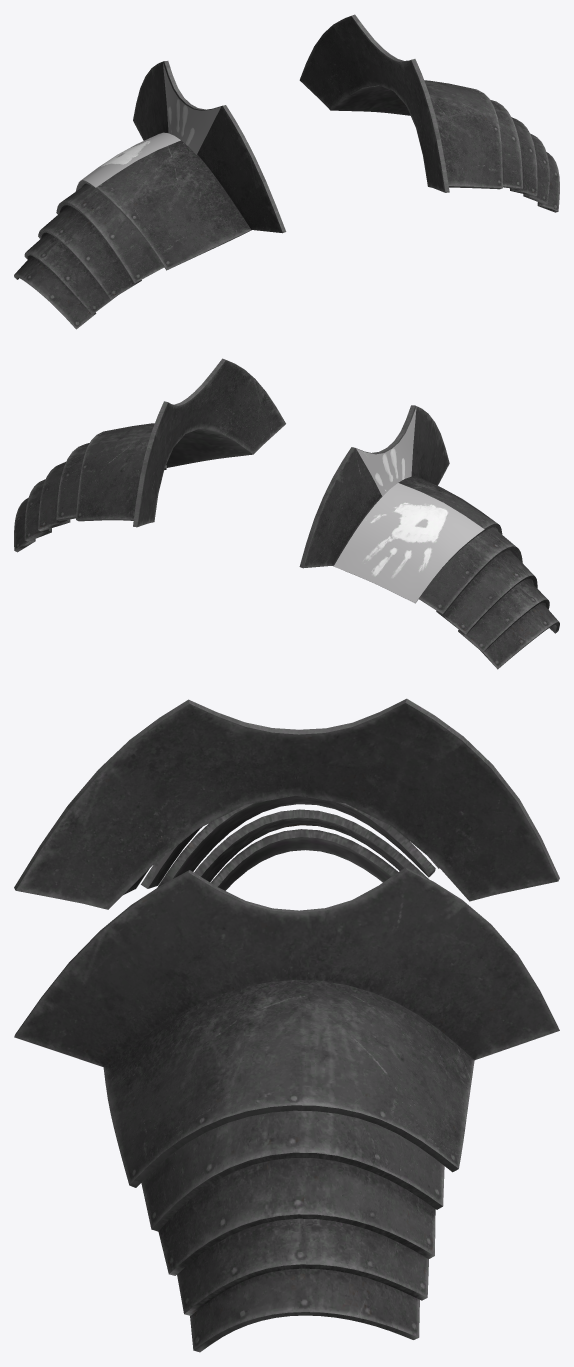
Rendered from sk_uruk_hai_pauldron_heavy_b2.fbx.
The picture shows the model from 3 angles, top to bottom: view 1: azimuth 30°, elevation 25°; view 2: azimuth 150°, elevation 25°; view 3: azimuth 270°, elevation 25°; orthographic projection. The views are drawn at different scales.
Parts seen in each view (by area): view 1: sk_uruk_hai_pauldron_heavy_b2.0, sk_uruk_hai_pauldron_heavy_b2.1; view 2: sk_uruk_hai_pauldron_heavy_b2.0, sk_uruk_hai_pauldron_heavy_b2.1; view 3: sk_uruk_hai_pauldron_heavy_b2.0.
Part boxes in pixels (x1=…): sk_uruk_hai_pauldron_heavy_b2.0: x1=14, y1=14, x2=559, y2=329; sk_uruk_hai_pauldron_heavy_b2.1: x1=75, y1=63, x2=220, y2=191; sk_uruk_hai_pauldron_heavy_b2.0: x1=14, y1=358, x2=559, y2=669; sk_uruk_hai_pauldron_heavy_b2.1: x1=333, y1=406, x2=484, y2=602; sk_uruk_hai_pauldron_heavy_b2.0: x1=14, y1=698, x2=559, y2=1352.
Bounding box in the file's own units: 0.808 × 0.3968 × 0.2834.
Materials: 2 (2 with a texture image).
